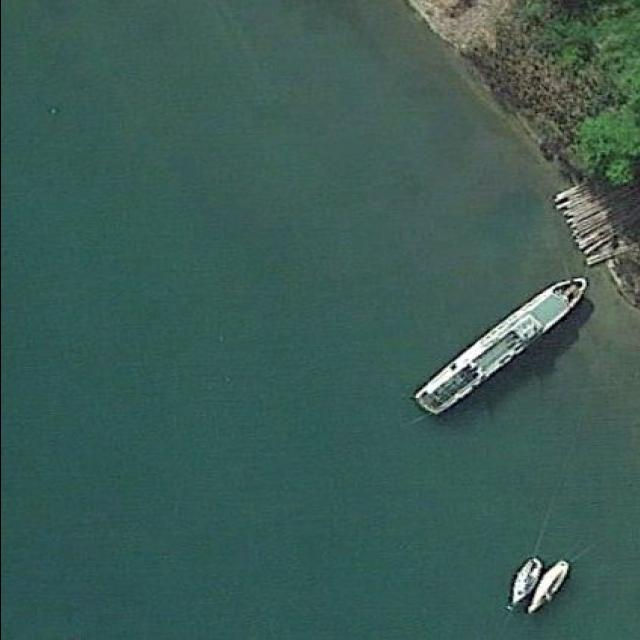ship: (413, 276, 588, 415), (525, 559, 569, 613), (509, 555, 543, 605)
